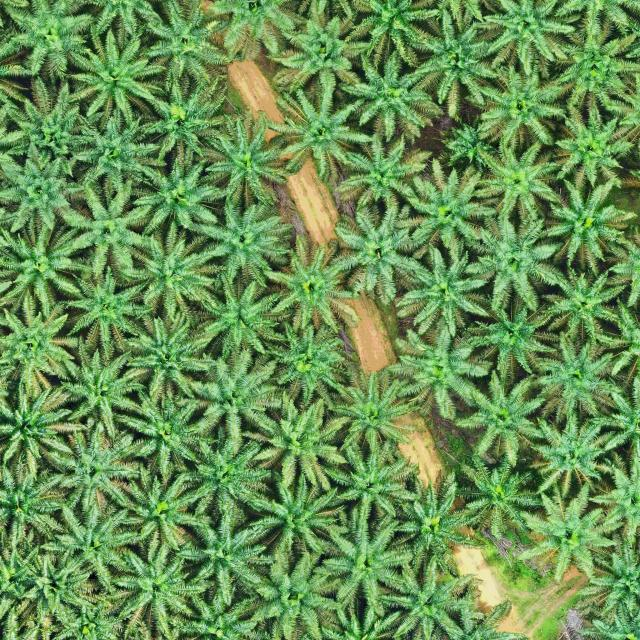Tree: (262, 78, 380, 184), (508, 478, 628, 581), (232, 474, 346, 580), (240, 389, 352, 496), (462, 208, 570, 318), (381, 320, 494, 422), (312, 509, 416, 619), (234, 542, 349, 640), (396, 152, 499, 260), (329, 197, 430, 307), (255, 235, 362, 338), (103, 539, 212, 638), (448, 367, 554, 468), (53, 178, 156, 281), (527, 176, 639, 270), (404, 6, 498, 117), (0, 212, 94, 323), (463, 57, 572, 152), (194, 191, 295, 293), (318, 443, 416, 548), (393, 240, 494, 341), (335, 52, 443, 146), (175, 508, 278, 604), (118, 227, 222, 322), (316, 366, 428, 454), (184, 346, 286, 442), (0, 74, 94, 178), (113, 313, 219, 405), (40, 496, 141, 592), (192, 267, 294, 362), (66, 30, 165, 126), (120, 387, 220, 482), (55, 336, 148, 438), (526, 328, 624, 424), (42, 418, 142, 512), (0, 284, 83, 397), (521, 410, 622, 502), (193, 116, 298, 204), (139, 0, 237, 94), (179, 427, 273, 525), (464, 134, 566, 224), (121, 148, 220, 240), (375, 551, 477, 640), (113, 464, 214, 553), (0, 374, 82, 483), (446, 451, 545, 541), (263, 13, 369, 97), (70, 109, 172, 196), (130, 74, 232, 160), (465, 292, 563, 381), (390, 466, 477, 566), (547, 18, 640, 108), (68, 264, 160, 354), (265, 319, 352, 414), (536, 256, 626, 346), (0, 137, 78, 237), (336, 132, 432, 212), (480, 1, 584, 74), (16, 543, 104, 629), (0, 0, 95, 78), (552, 104, 637, 186), (0, 459, 71, 557), (433, 116, 503, 172)
